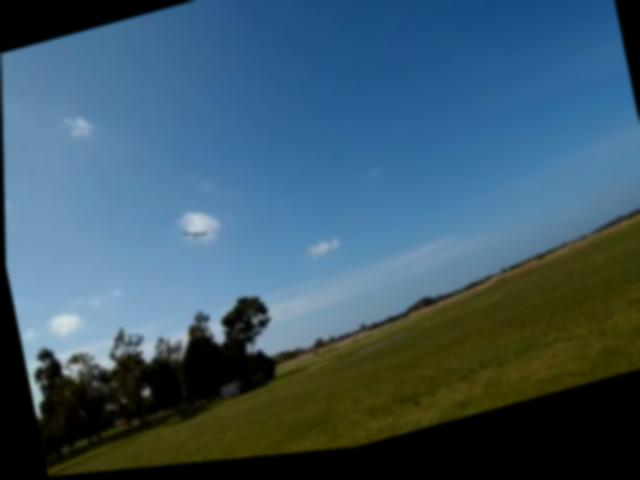uav: (175, 220, 210, 252)
